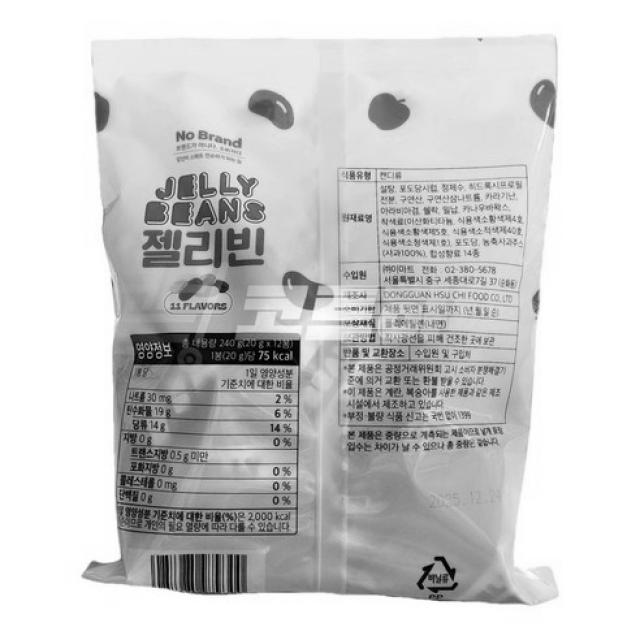Nutrition Label: (115, 329, 309, 539)
